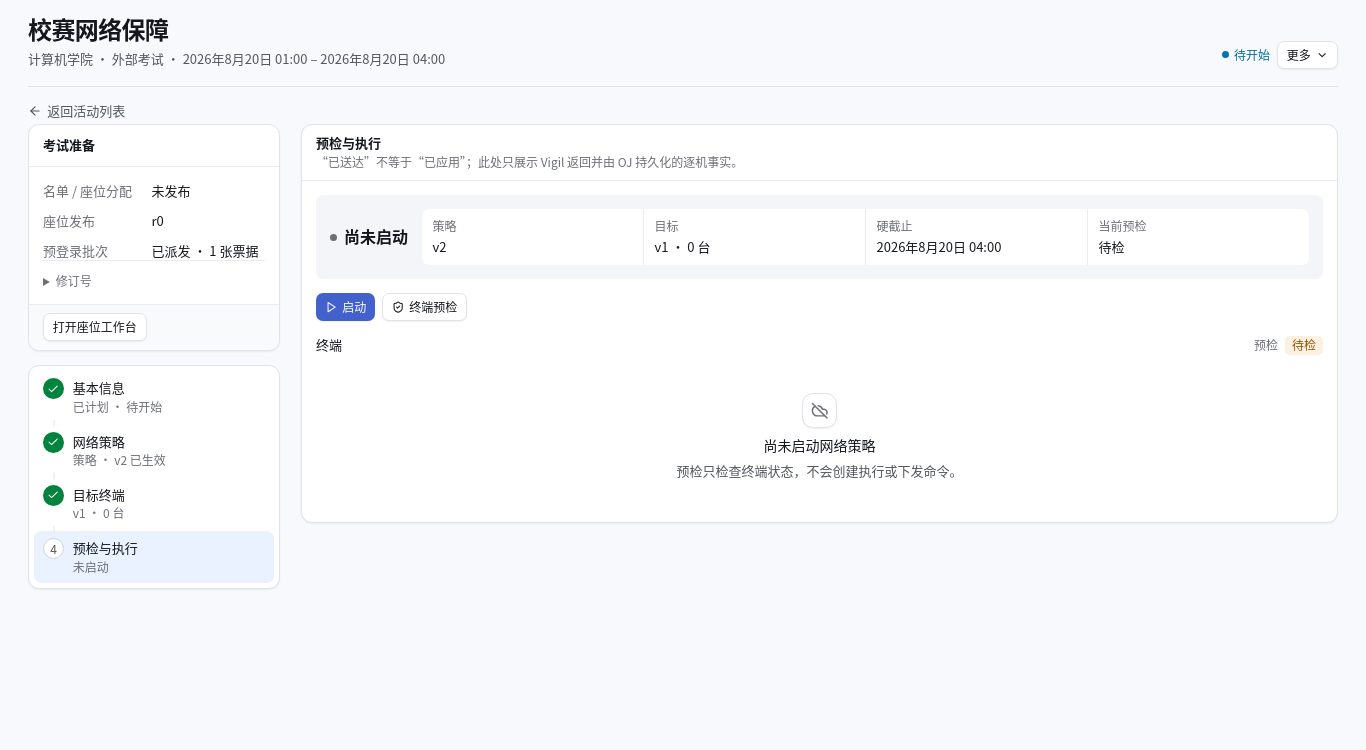
Test: exam event detail shell › 没有 workflow 的批次标成历史批次
Expected: the heading "考试准备" is shown, x1=43 y1=135 x2=95 y2=154
Click the heading "修订号" at [74, 280], box x1=56 y1=272 x2=92 y2=289
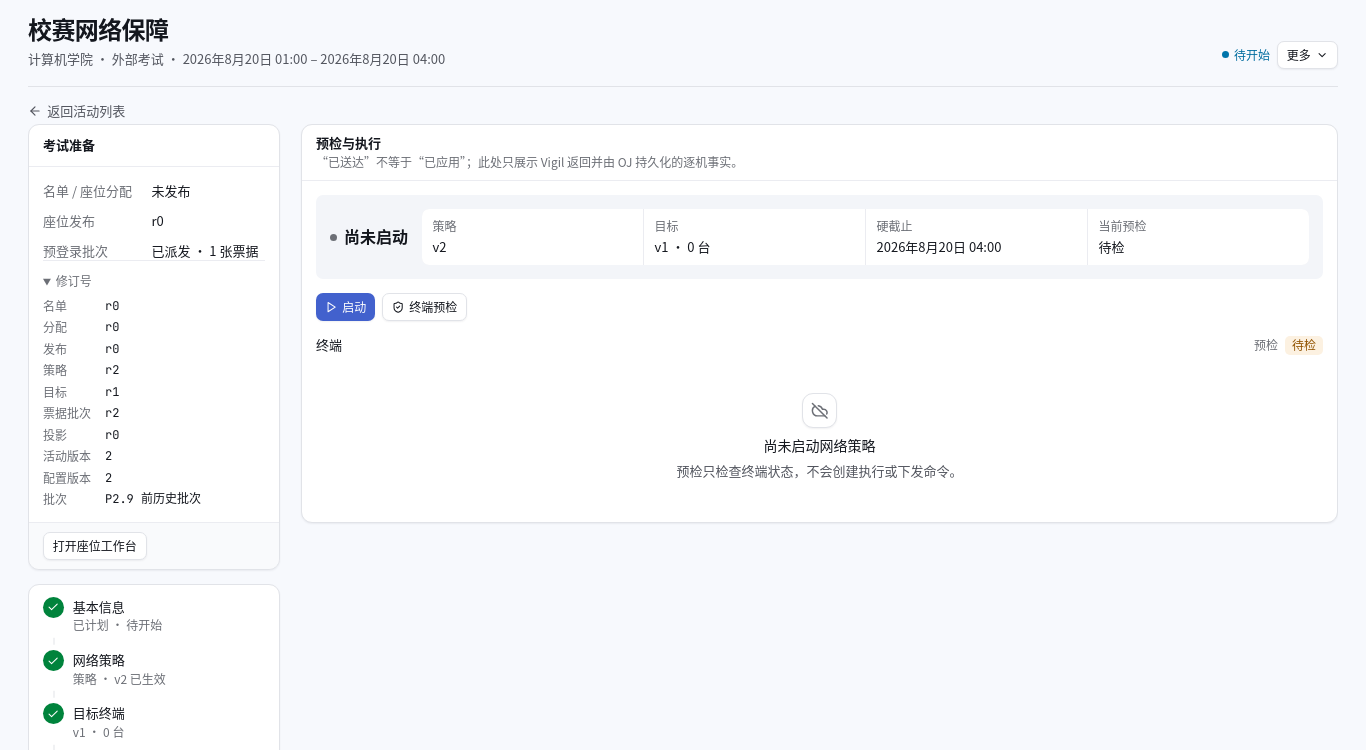
Now the text "P2.9 前历史批次" is shown, box x1=105 y1=491 x2=201 y2=507
